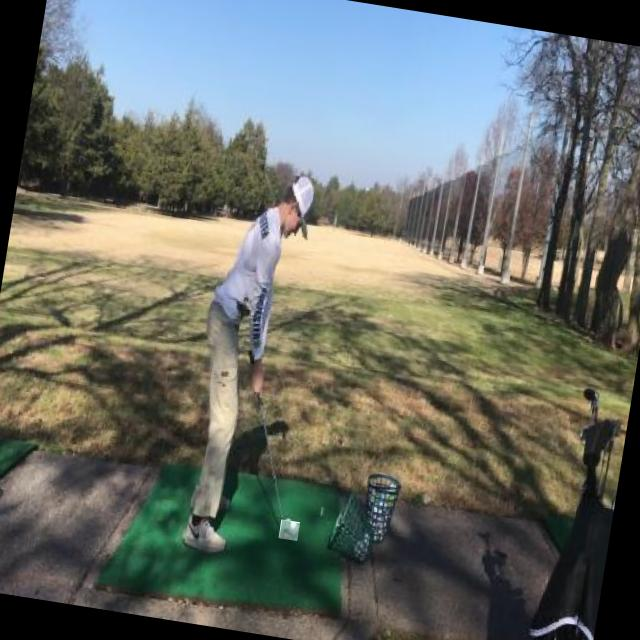club head: (278, 520, 300, 542)
